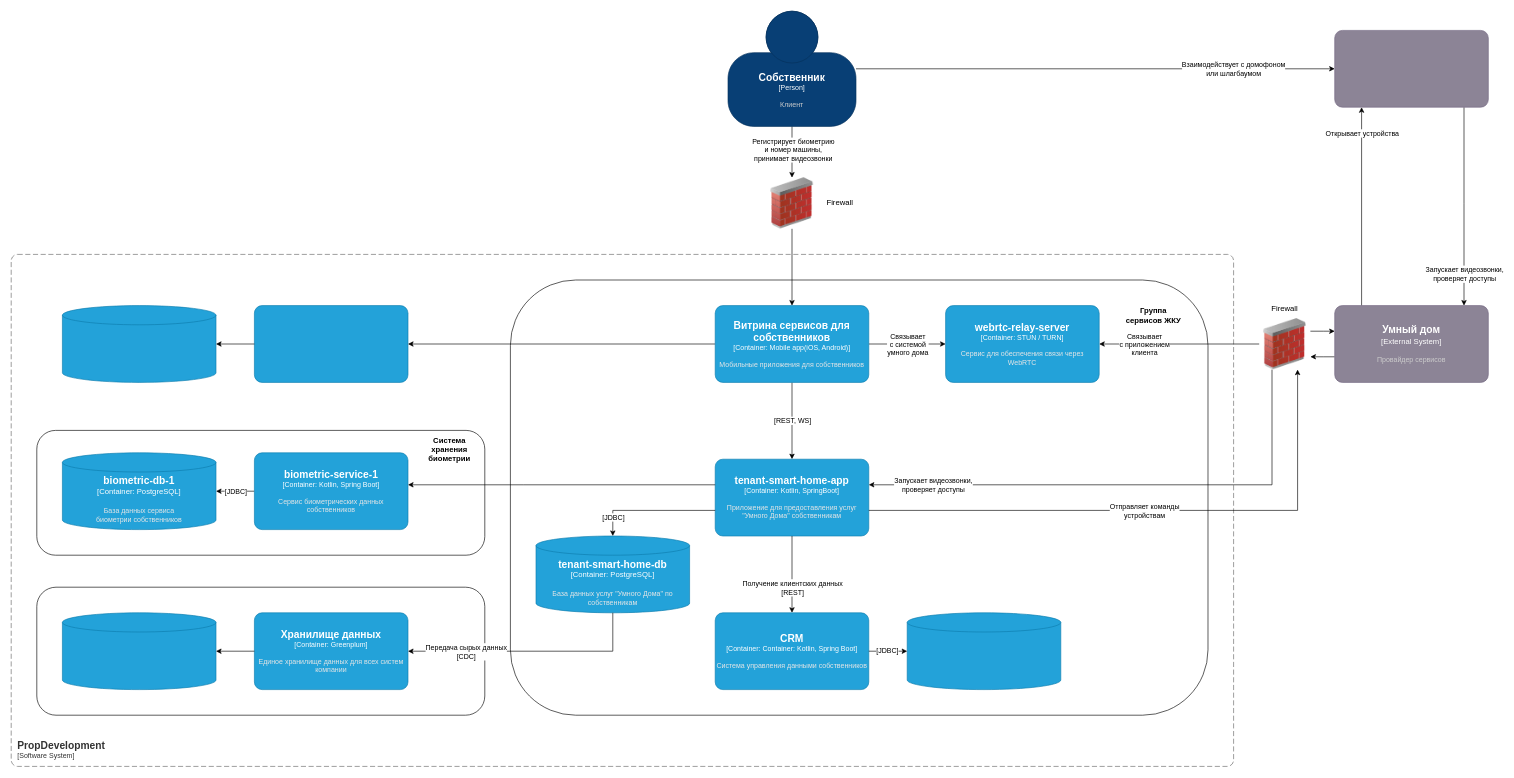
Some shapes in this 1514 by 778 pixel diagram are drawn without their labels. The shapes that lost their labels are listed below. From the top down, each one's centre as x and y in pixels, then its label:
(1411,68): Домофон / шлагбаум [External System] Устройства
(139,343): auth-db-1 [Container: PostgreSQL] База данных сервиса аутентификации покупателей
(331,343): auth-service-1 [Container: Keycloak] Сервис аутентификации покупателей
(139,651): DWH Хранилище [Container: S3] Физическое хранилище данных DWH
(984,651): crm-tenant-db [Container: PostgreSQL] База данных CRM по собственникам
